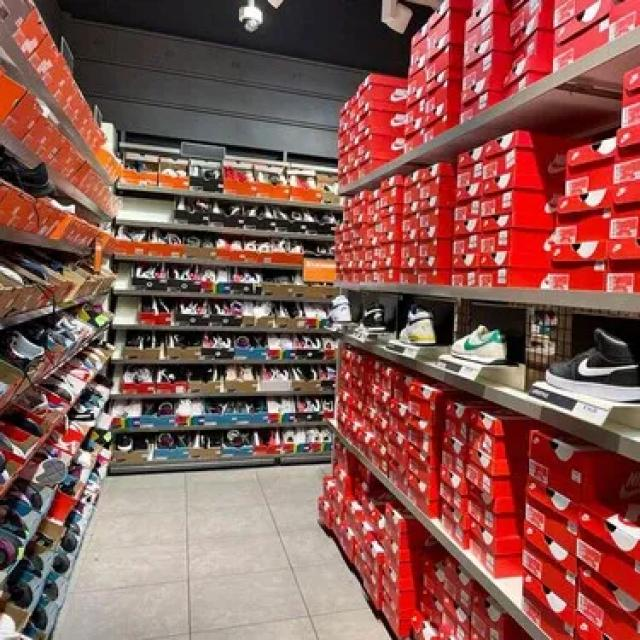nike: (577, 355, 640, 384), (461, 336, 498, 352)
